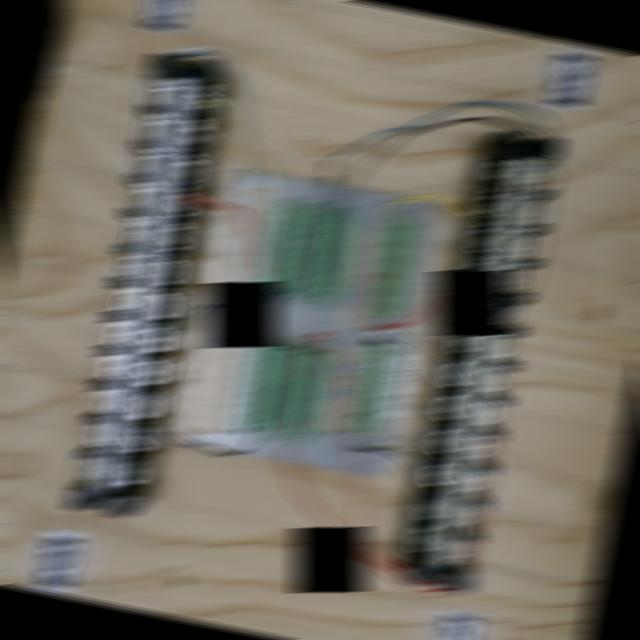Flathead_Block: (406, 129, 562, 594)
Phillips_Block: (67, 51, 219, 519)
Terminal_1: (347, 341, 395, 438), (371, 219, 416, 316)
Terminal_2: (287, 207, 330, 299), (288, 350, 331, 441), (261, 346, 304, 437), (316, 211, 358, 304), (259, 203, 301, 294)
